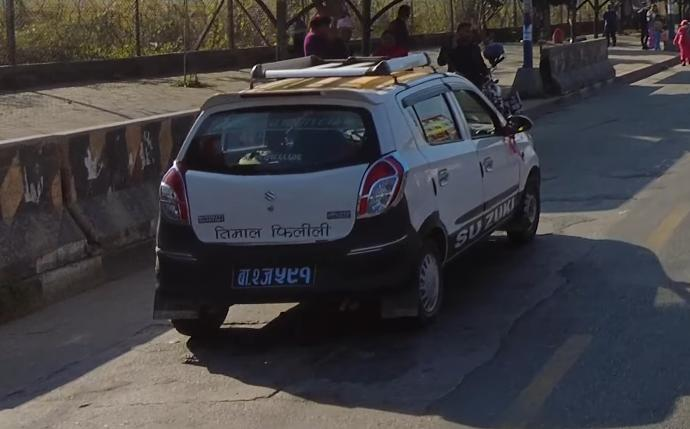taxi: (149, 58, 546, 339)
